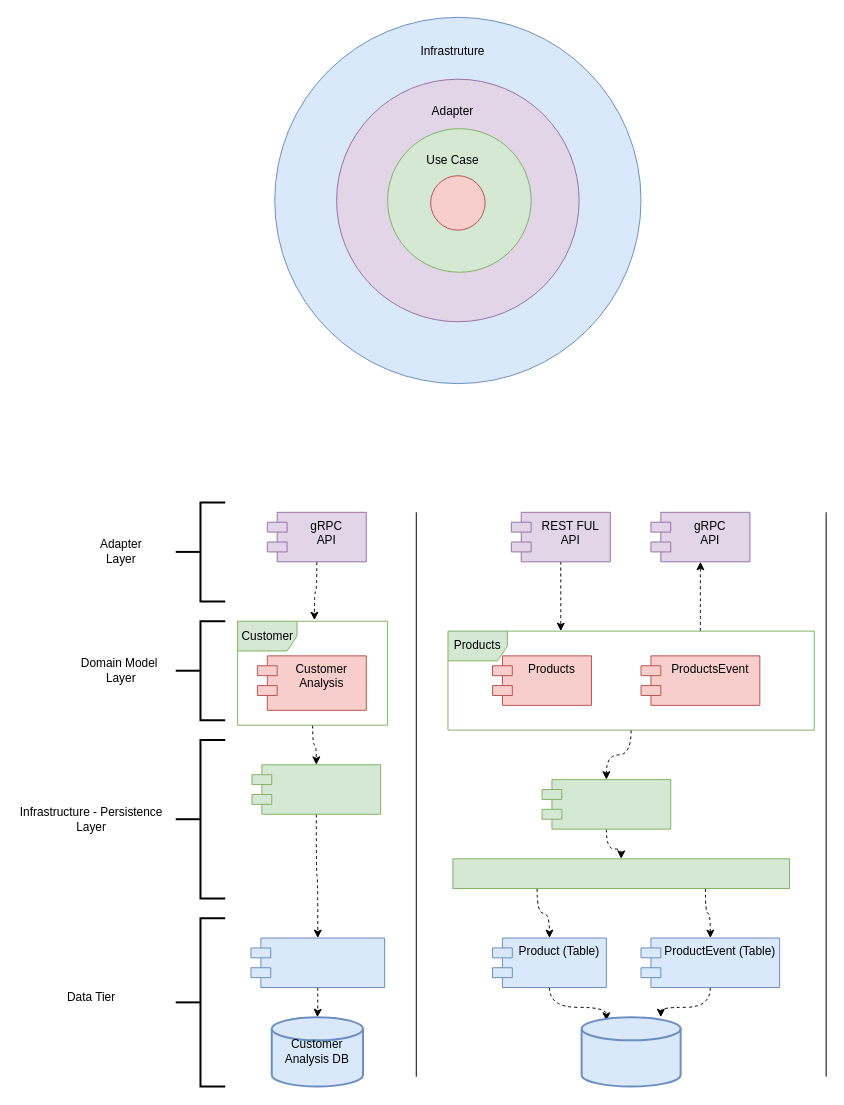
The diagram is 844 pixels wide and 1105 high, and some of its shapes have lost their labels. Each missing label, with the box of its shape:
Customer Analysis (Table): (250, 937, 385, 988)
Customer Analysis Repository: (251, 764, 381, 814)
Entities: (430, 175, 485, 230)
Product DB: (580, 1016, 681, 1087)
ProductRepository: (541, 779, 671, 829)
Unit of Work: (452, 858, 790, 889)
